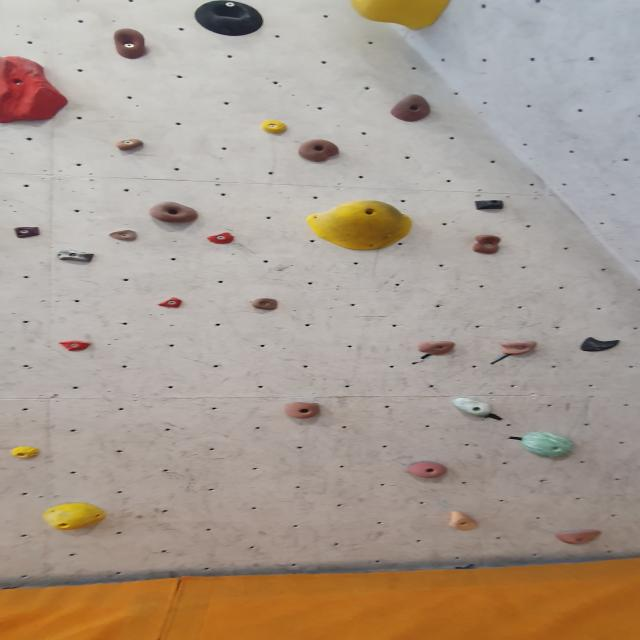Crimp: (0, 53, 72, 126), (552, 526, 605, 546), (104, 229, 142, 246), (258, 120, 292, 138), (112, 138, 149, 154), (10, 226, 46, 242), (56, 340, 94, 355), (203, 233, 238, 248), (154, 298, 188, 312), (7, 444, 41, 458)
Jug: (388, 94, 436, 125), (110, 27, 152, 61), (145, 201, 202, 226), (297, 138, 343, 163), (406, 459, 453, 480), (281, 402, 325, 422), (469, 233, 503, 256), (415, 340, 459, 357), (499, 340, 540, 358), (247, 296, 283, 311)
Pinch: (452, 395, 496, 418), (442, 510, 481, 534), (55, 248, 100, 264), (470, 197, 507, 213)
Pocket: (193, 0, 271, 38)
Sloper: (304, 200, 418, 255), (343, 0, 456, 34), (40, 501, 108, 532), (519, 430, 578, 459)
